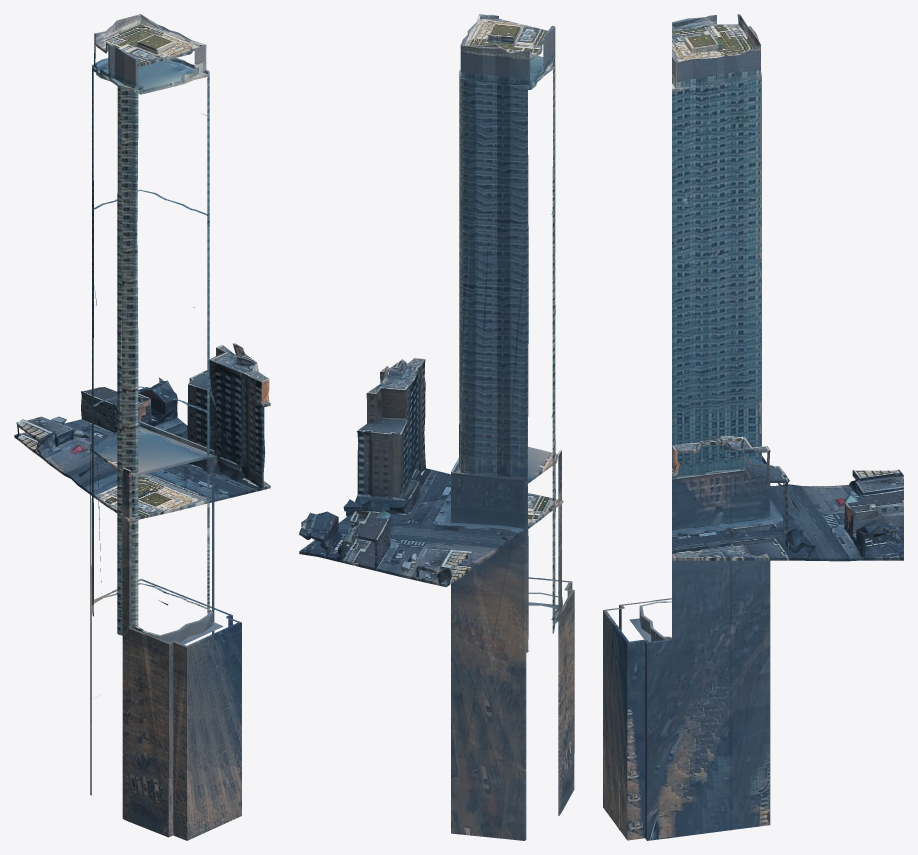
Rendered from chunk_6_-1.glb.
3 renders of one model, left to right at view 1: azimuth 30°, elevation 25°; view 2: azimuth 150°, elevation 25°; view 3: azimuth 270°, elevation 25°, orthographic. The views are drawn at different scales.
Visible parts, largest first — view 1: hero-chunk; view 2: hero-chunk; view 3: hero-chunk.
Part boxes in pixels (bbox=[...]): hero-chunk: bbox=[14, 14, 270, 840]; hero-chunk: bbox=[299, 14, 574, 840]; hero-chunk: bbox=[603, 14, 903, 840].
Bounding box in the file's own units: 55.74 × 284 × 99.07.
Materials: 5 (5 with a texture image).
